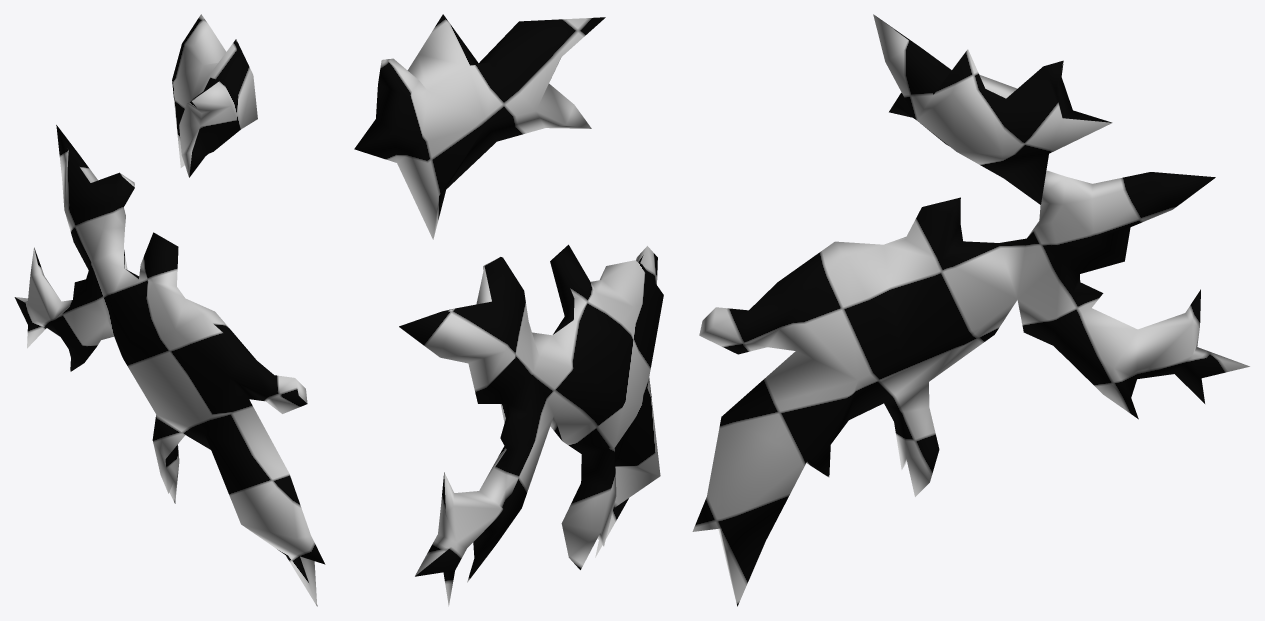
The model's file is asset-vru-asteroid-b.obj.
3 views of the same model, side by side, from view 1: azimuth 30°, elevation 25°; view 2: azimuth 150°, elevation 25°; view 3: azimuth 270°, elevation 25° (orthographic). The views are drawn at different scales.
Parts seen in each view (by area): view 1: asset_vru_asteroid_b; view 2: asset_vru_asteroid_b; view 3: asset_vru_asteroid_b.
Part boxes in pixels (x1,y1,x2,y2): asset_vru_asteroid_b: (14, 14, 325, 606); asset_vru_asteroid_b: (354, 14, 663, 606); asset_vru_asteroid_b: (692, 14, 1249, 606).
Size of the model in its own units: 144 by 449 by 399.
Materials: 1 (1 with a texture image).
